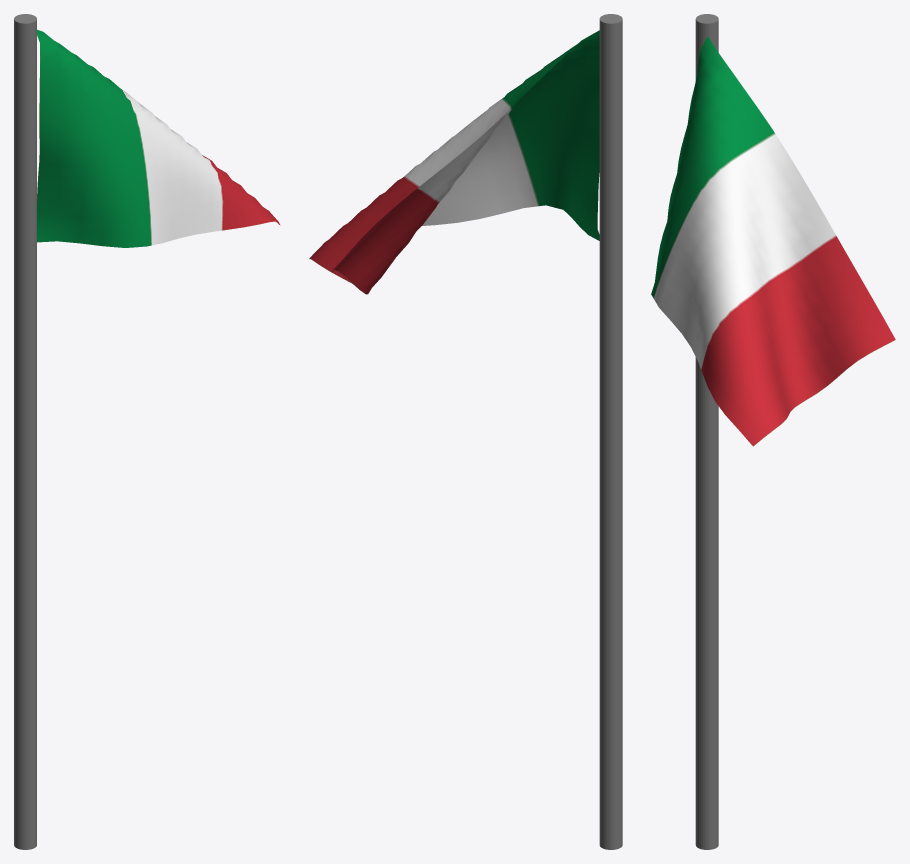
The model's file is flag_ww.fbx.
3 views of the same model, side by side, from view 1: azimuth 30°, elevation 25°; view 2: azimuth 150°, elevation 25°; view 3: azimuth 270°, elevation 25° (orthographic).
Visible parts, largest first — view 1: Plane, Cylinder; view 2: Plane, Cylinder; view 3: Plane, Cylinder.
Part boxes in pixels (x1,y1,x2,y2): Plane: (37, 29, 280, 247); Cylinder: (14, 14, 36, 849); Plane: (309, 30, 599, 294); Cylinder: (599, 14, 622, 849); Plane: (651, 37, 895, 446); Cylinder: (695, 14, 718, 849).
Size of the model in its own units: 435 by 1191 by 320.
Materials: 2 (1 with a texture image).
